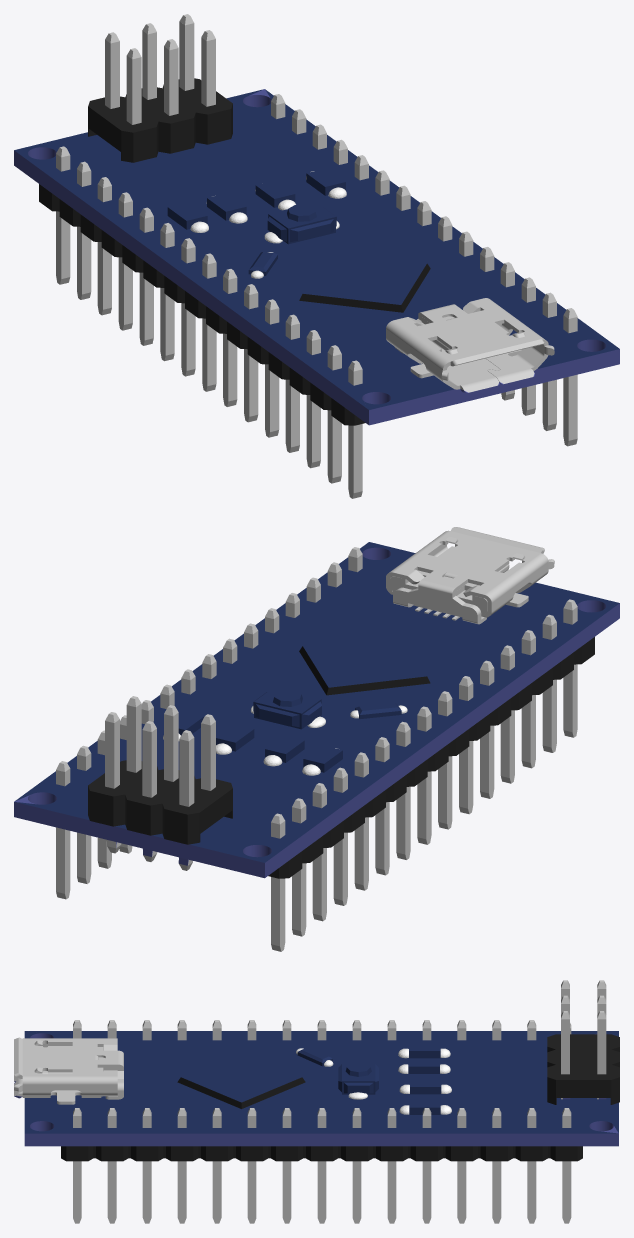
File: arduino-nano.glb
3 views of the same model, one above another, from view 1: azimuth 30°, elevation 25°; view 2: azimuth 150°, elevation 25°; view 3: azimuth 270°, elevation 25° (orthographic). The views are drawn at different scales.
Visible parts, largest first — view 1: body.501_0; view 2: body.501_0; view 3: body.501_0.
Part boxes in pixels (x1=…): body.501_0: x1=14, y1=14, x2=619, y2=498; body.501_0: x1=14, y1=527, x2=619, y2=951; body.501_0: x1=14, y1=980, x2=619, y2=1223.
Size of the model in its own units: 0.018 by 0.0148 by 0.045.
